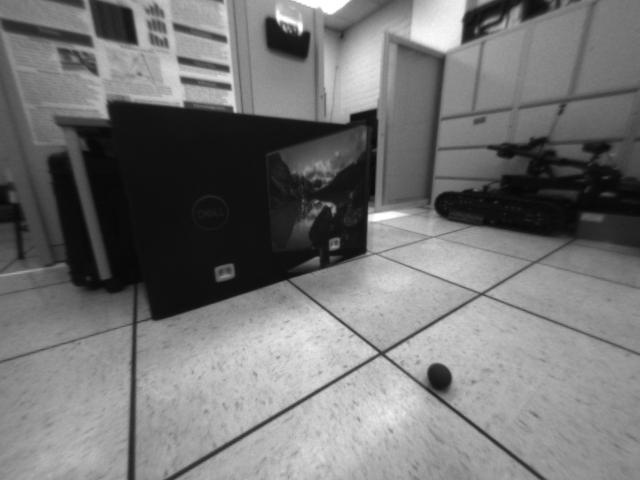dogtoy: (423, 353, 460, 399)
